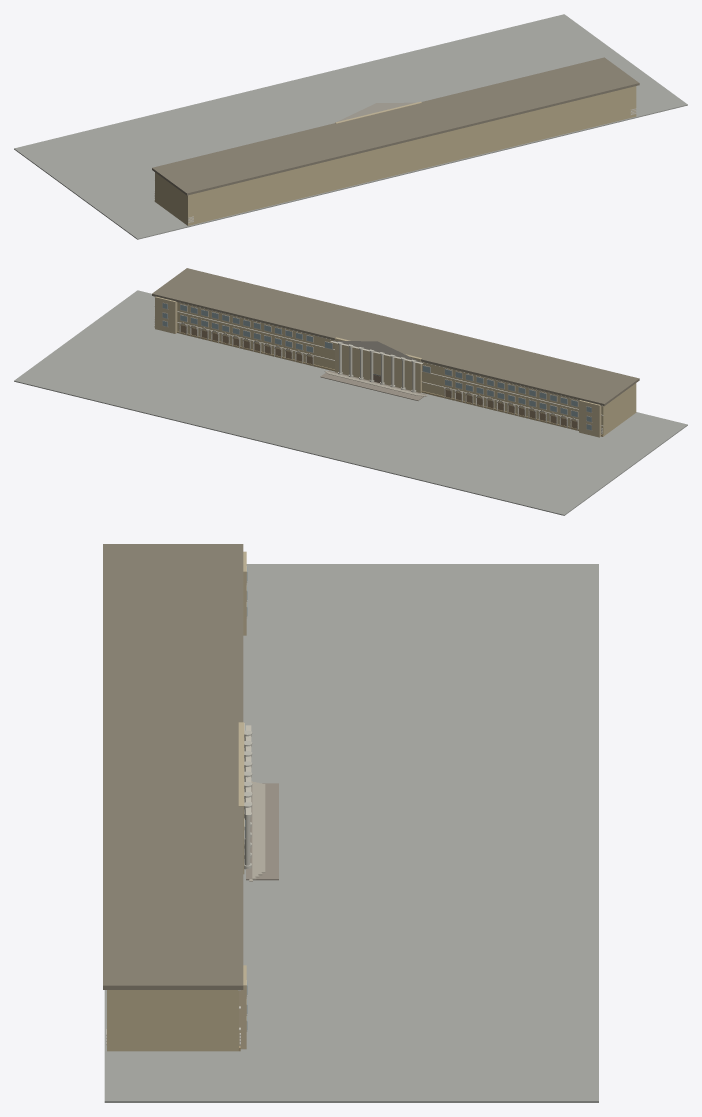
Rendered from memory_archive_hall.glb.
3 renders of one model, top to bottom at view 1: azimuth 30°, elevation 25°; view 2: azimuth 150°, elevation 25°; view 3: azimuth 270°, elevation 25°, orthographic. The views are drawn at different scales.
Parts seen in each view (by area): view 1: geometry_0; view 2: geometry_0; view 3: geometry_0.
Part boxes in pixels (x1,y1,x2,y2): geometry_0: [14, 14, 687, 239]; geometry_0: [14, 268, 687, 515]; geometry_0: [103, 544, 598, 1102].
Bounding box in the file's own units: 270 × 20.04 × 105.
